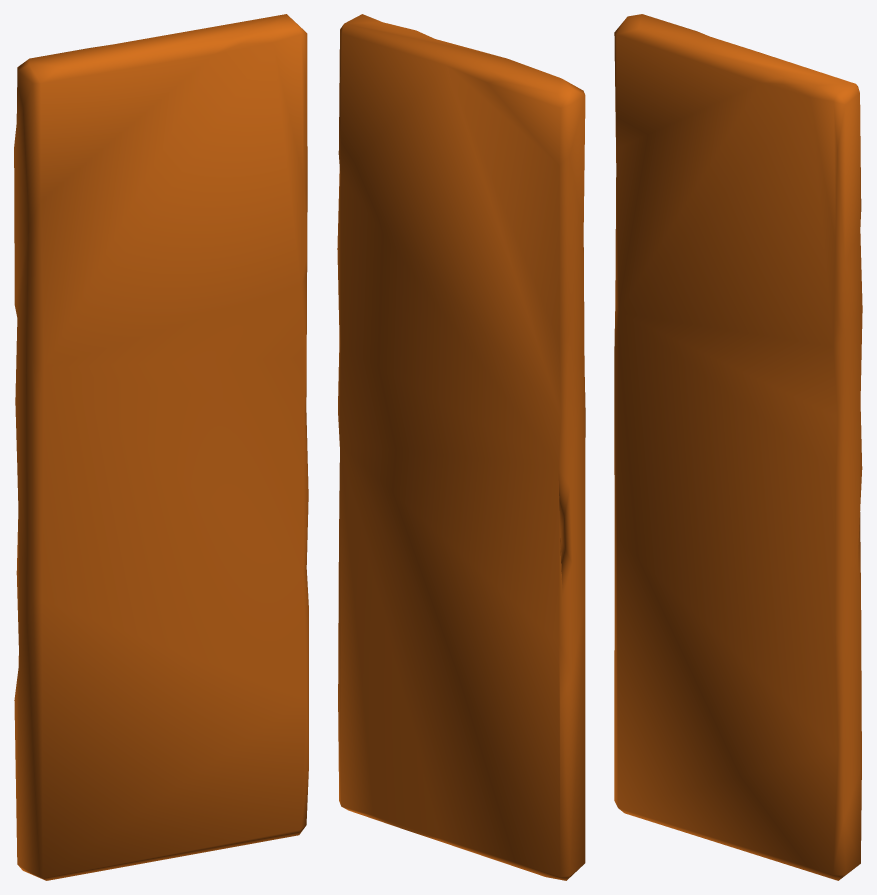
Rendered from TombstonesCoffinWood.007.fbx.
3 views of the same model, side by side, from view 1: azimuth 30°, elevation 25°; view 2: azimuth 150°, elevation 25°; view 3: azimuth 330°, elevation 25° (orthographic). The views are drawn at different scales.
Visible parts, largest first — view 1: TombstonesCoffinWood.007; view 2: TombstonesCoffinWood.007; view 3: TombstonesCoffinWood.007.
Boxes of the visible parts, <box> form: TombstonesCoffinWood.007: <box>14,14,308,880</box>; TombstonesCoffinWood.007: <box>337,14,585,880</box>; TombstonesCoffinWood.007: <box>614,14,862,880</box>.
Bounding box in the file's own units: 36.52 × 110 × 10.42.
